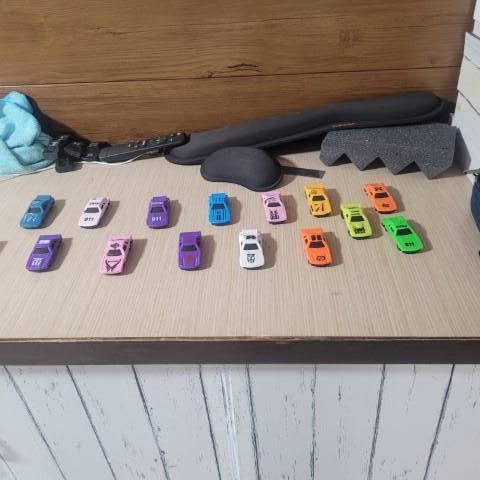car: (378, 214, 425, 253), (338, 197, 373, 242), (25, 235, 66, 273), (101, 232, 136, 275), (299, 227, 331, 269), (79, 195, 116, 230), (19, 194, 56, 229), (363, 180, 399, 212), (238, 229, 267, 268), (259, 186, 288, 224), (177, 230, 204, 270), (303, 181, 332, 218), (146, 192, 172, 230), (207, 191, 233, 226)
